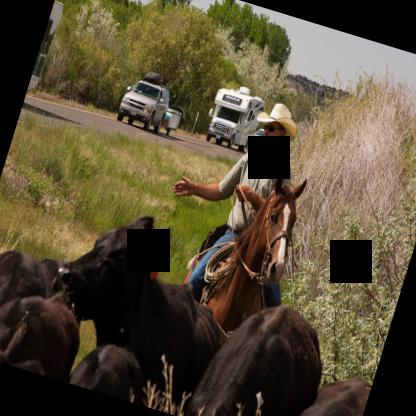handbag: (196, 221, 228, 265)
suitcase: (144, 68, 163, 85)
